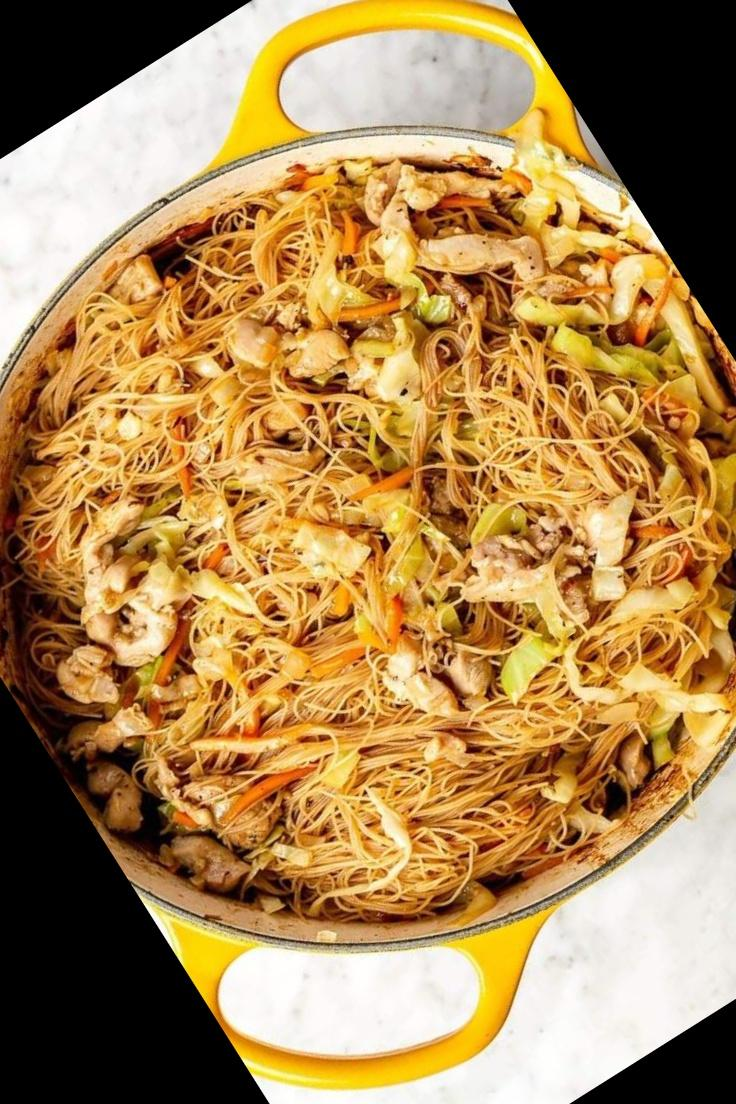pancit bihon: (23, 157, 735, 906)
